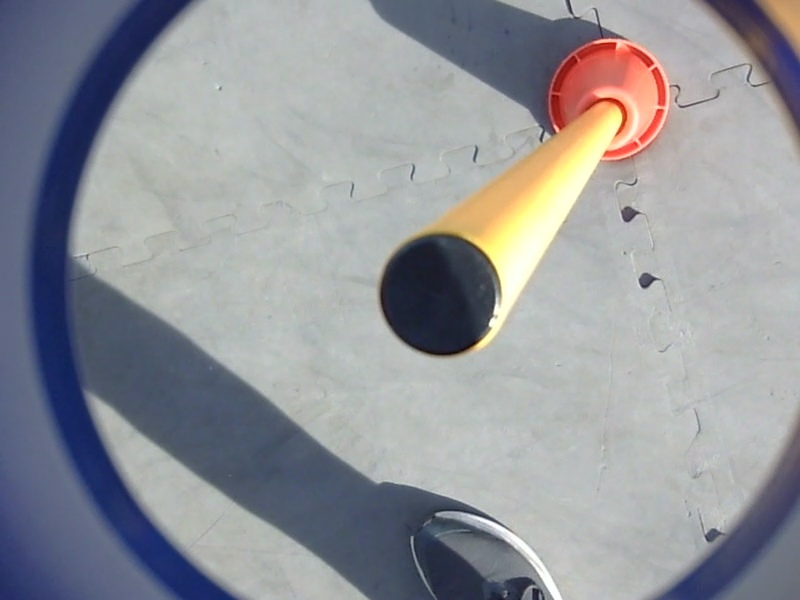tip: (371, 227, 509, 365)
